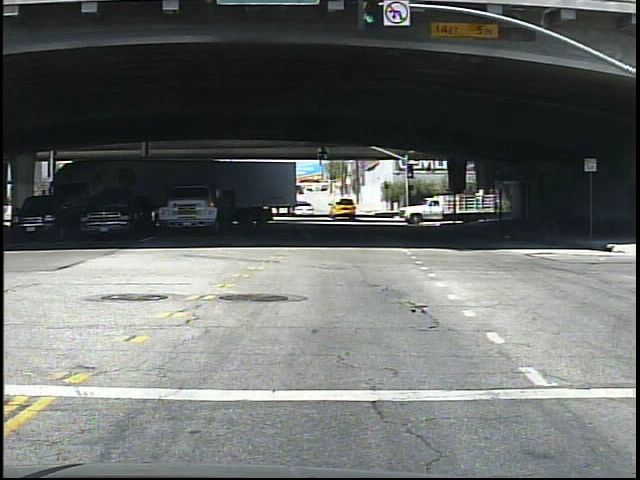car: (327, 198, 355, 221)
strada: (31, 236, 631, 446)
